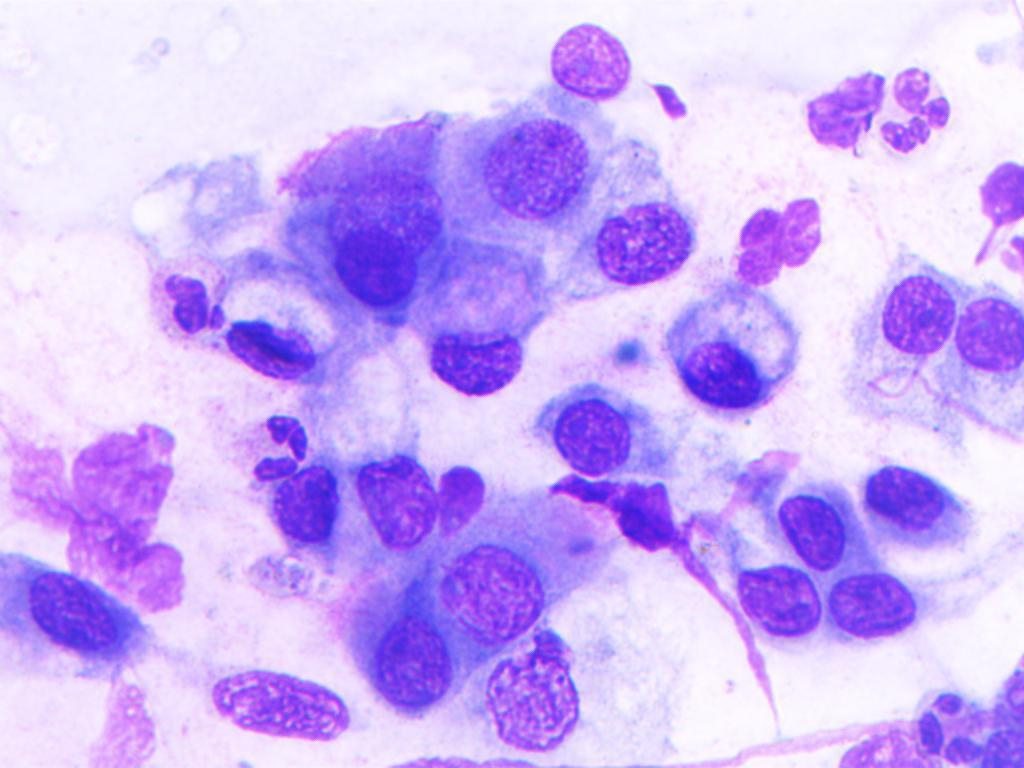artifact: (541, 472, 691, 557), (643, 76, 703, 123)
epithelial: (465, 640, 604, 765), (457, 115, 599, 223), (572, 182, 697, 300), (203, 665, 357, 760), (851, 262, 956, 397), (436, 534, 563, 644), (860, 455, 987, 556), (533, 383, 667, 475), (658, 330, 781, 423), (355, 614, 456, 714), (351, 444, 434, 562), (26, 563, 122, 656), (732, 557, 823, 650), (765, 479, 854, 570), (827, 569, 928, 649), (548, 16, 634, 101), (263, 463, 343, 551), (958, 286, 1023, 394)
goblet_cell: (405, 208, 540, 420), (315, 158, 439, 303)
neutrophil: (715, 172, 828, 303), (215, 400, 334, 486), (893, 668, 988, 768), (881, 62, 968, 170), (148, 256, 234, 352), (959, 153, 1024, 271), (224, 306, 322, 384)
